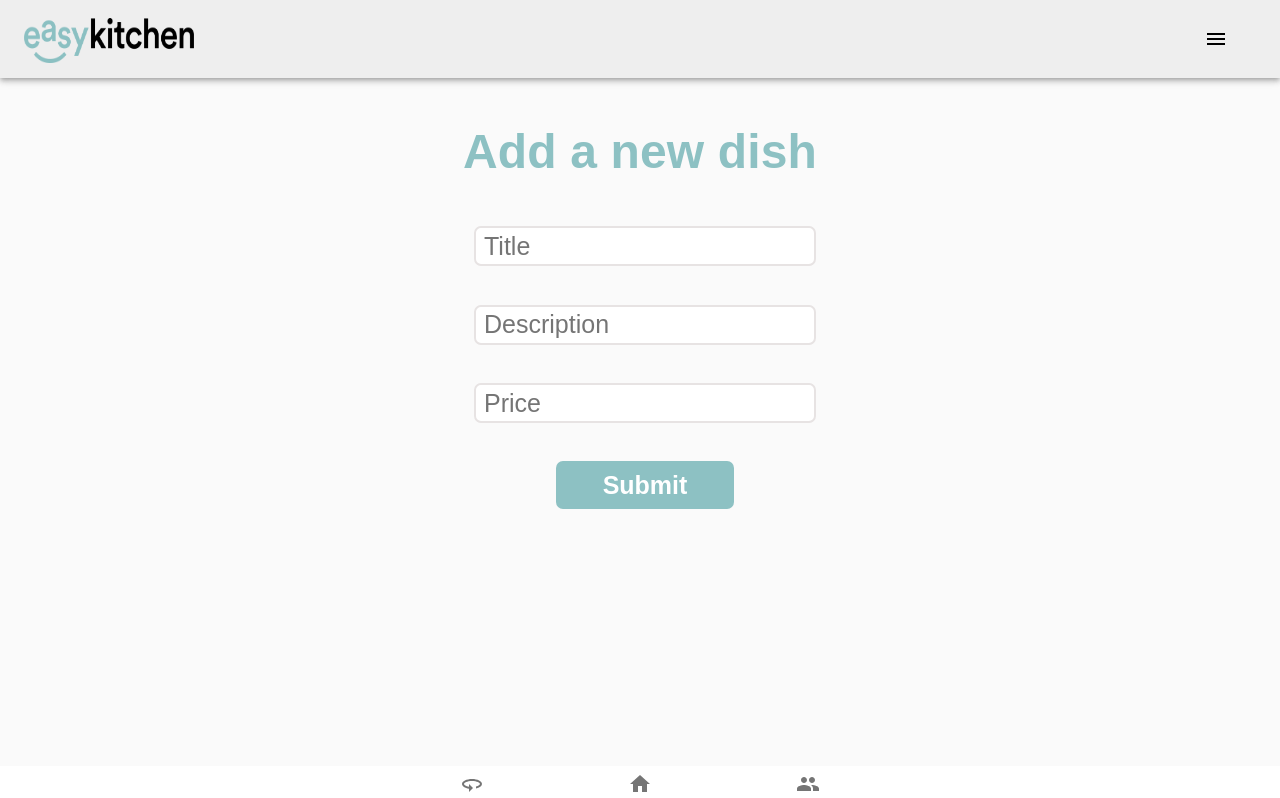
Test: TopNav render and nav function › navigates to the /create-a-menu
Click the button with test id "Menutest": click(1216, 39) 1192,15 -> 1240,63
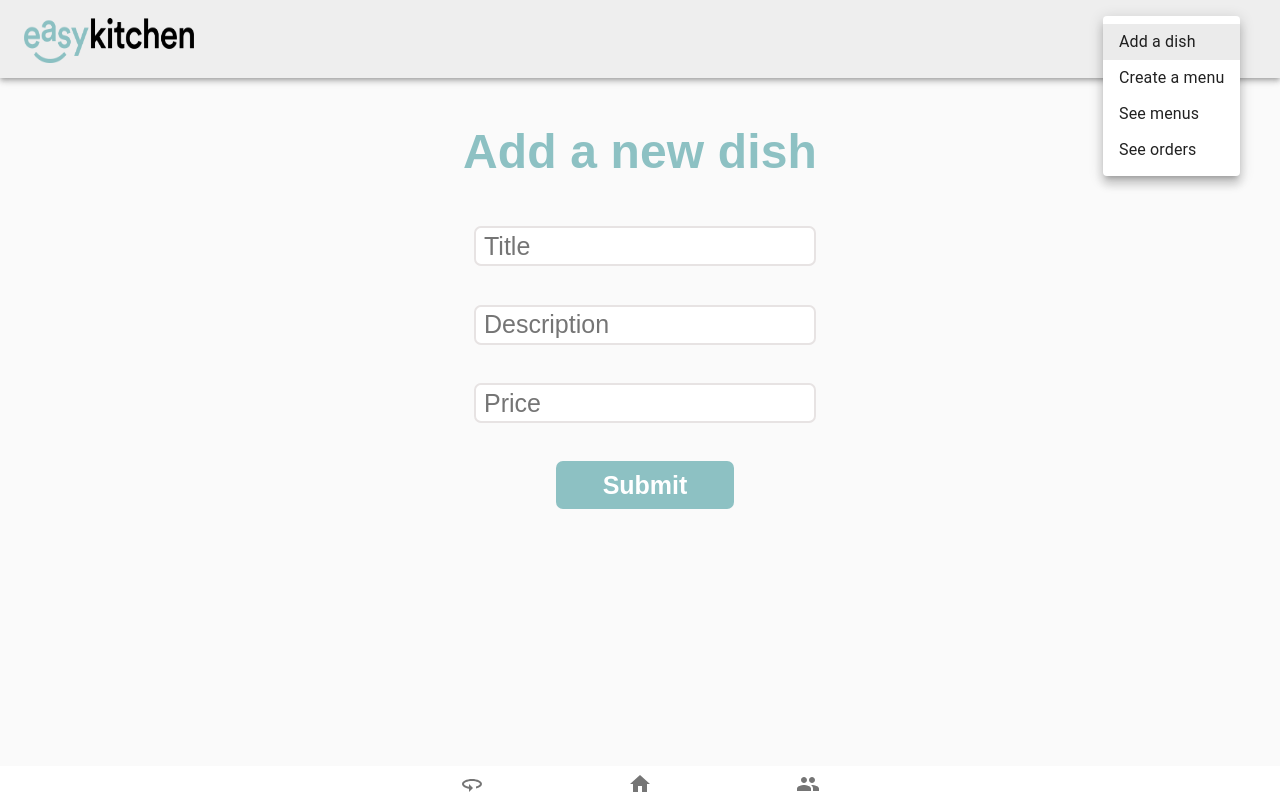
expect the menu item "Create a menu" is shown: met
Click the menu item "Create a menu": click(1172, 78) 1119,68 -> 1224,87
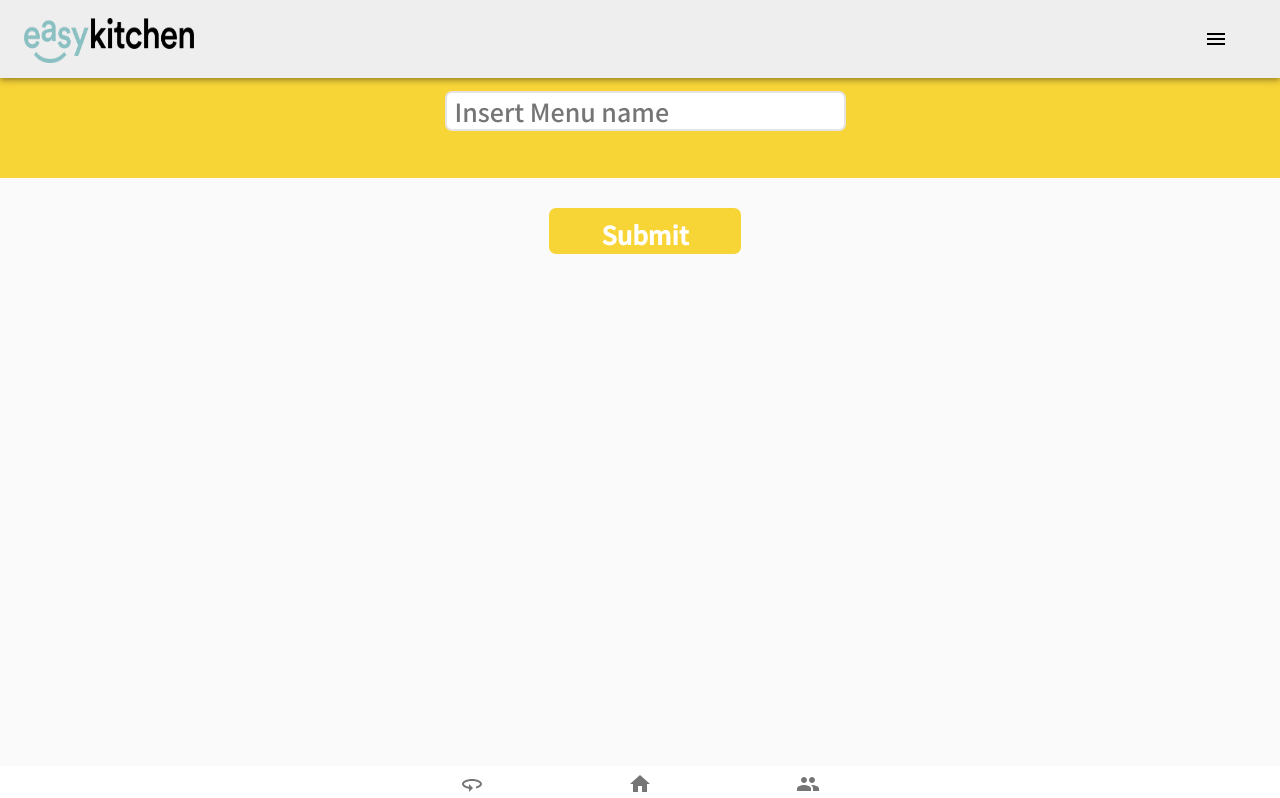
expect the form with test id "menuForm" is shown: met, box 0,78 -> 1279,293
